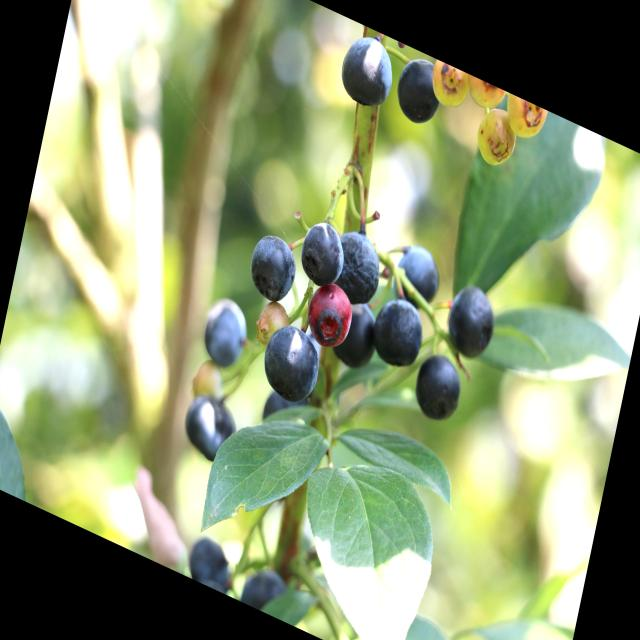blueberry: (256, 312, 326, 410), (332, 25, 400, 119), (366, 288, 429, 378), (177, 382, 241, 467), (389, 49, 450, 138), (242, 222, 302, 312), (327, 223, 385, 313), (443, 278, 500, 366), (197, 287, 252, 374), (411, 345, 466, 431), (388, 234, 446, 314), (330, 289, 383, 375), (295, 212, 350, 294), (256, 379, 308, 440), (190, 534, 237, 596), (242, 560, 288, 619)
blueberry-halfripe: (303, 277, 358, 353)
blueberry-unripe: (467, 101, 525, 178), (426, 58, 476, 119), (500, 92, 548, 147), (254, 293, 294, 355), (462, 73, 502, 118)
